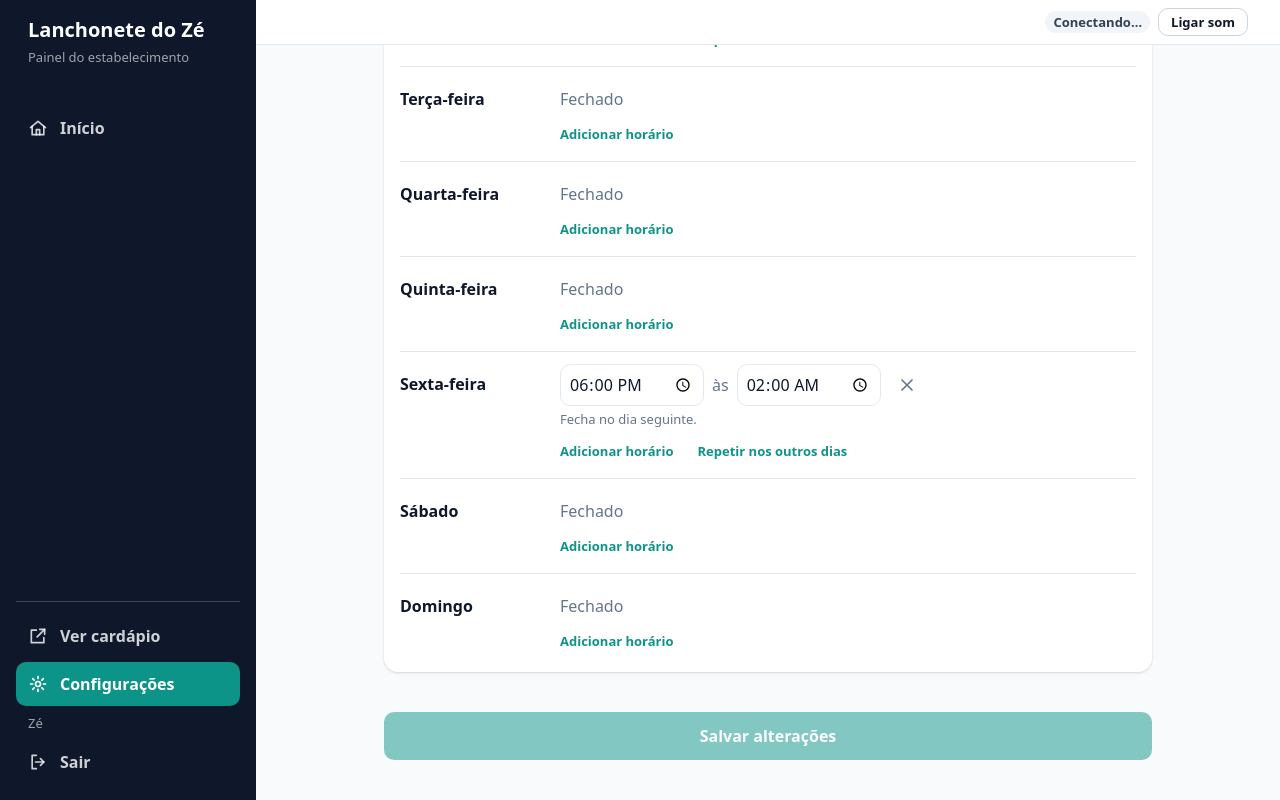
aba de horários › repete os horários de um dia nos outros
(page scrolled)
Click the button with aria-label "Repetir nos outros dias: Sexta-feira": (772, 451) [690,436,855,466]
(page scrolled)
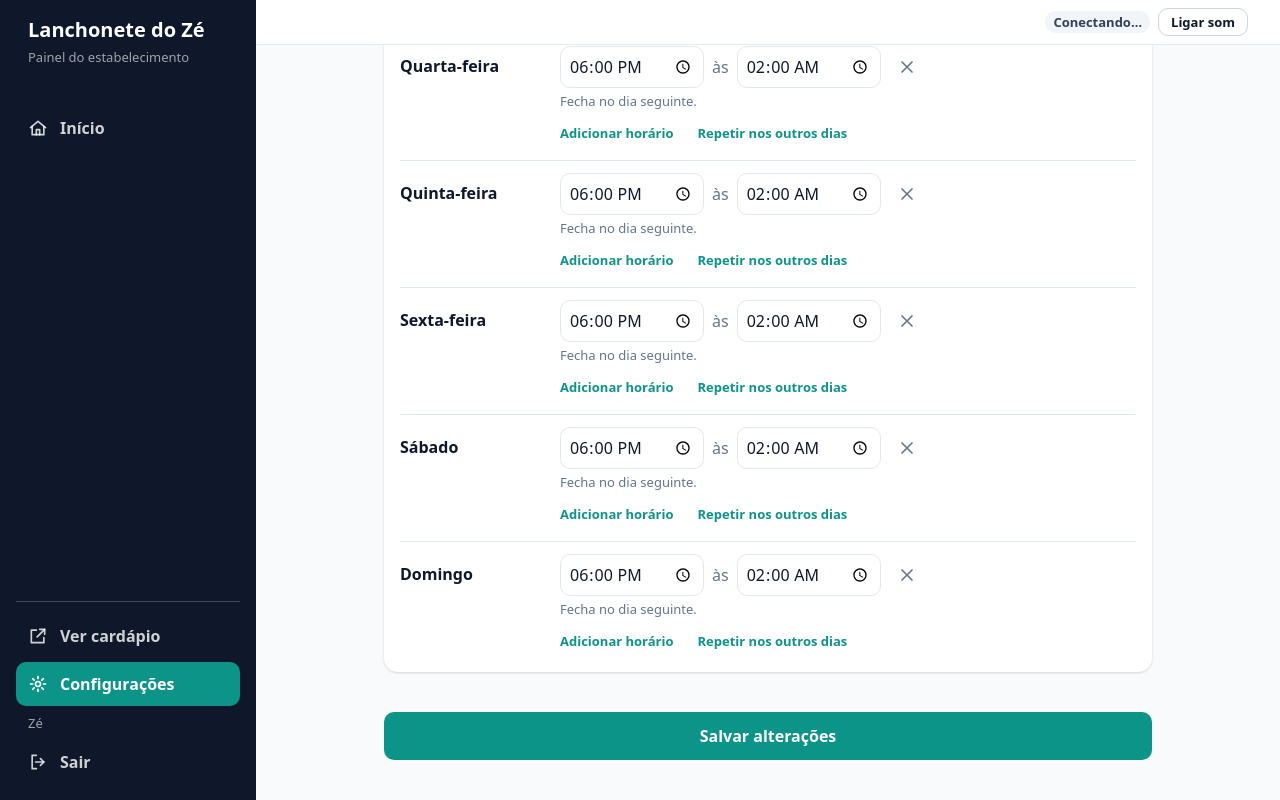
expect the text "Fechado" is not shown: met
expect the time field named "abre às" holds "18:00": met, box [560,554,704,596]
Click the button "Salvar alterações": (768, 736) [384,712,1152,760]
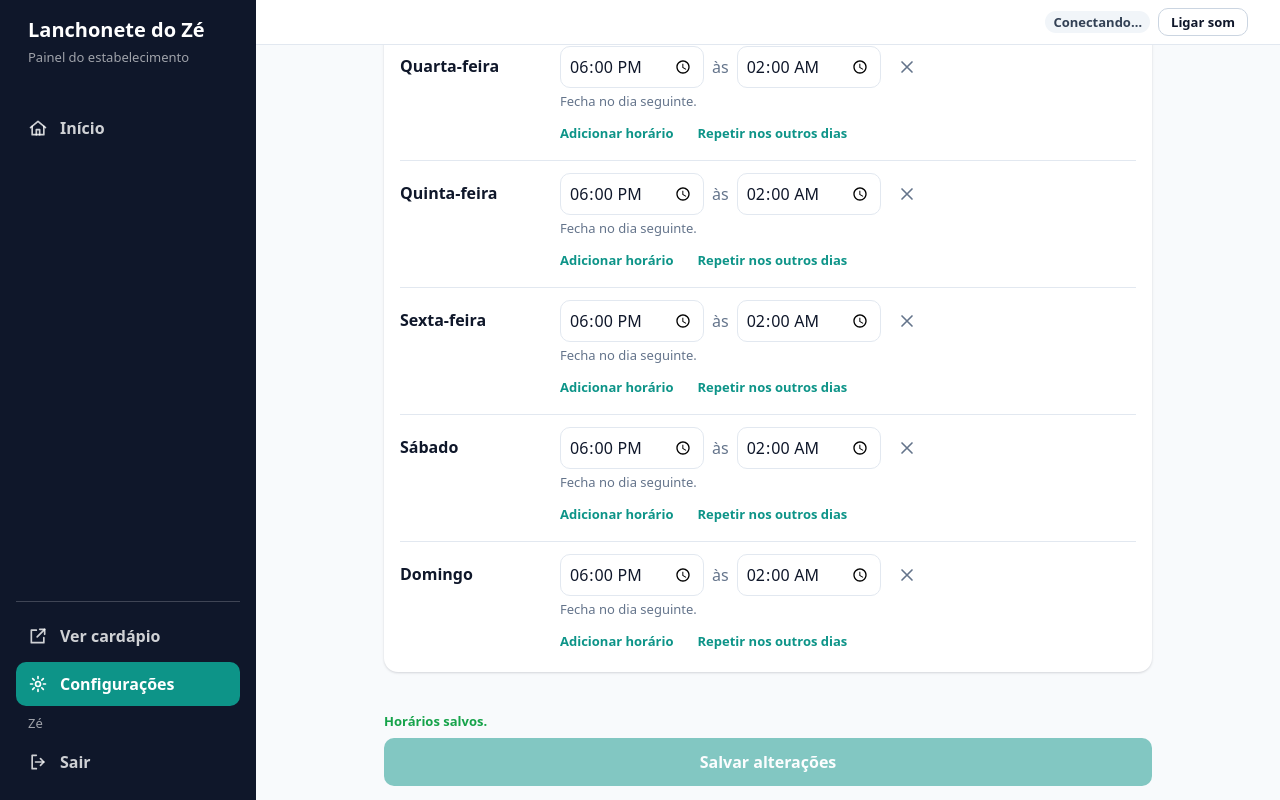
expect the text "Horários salvos." is shown: met, box [384,712,487,730]
